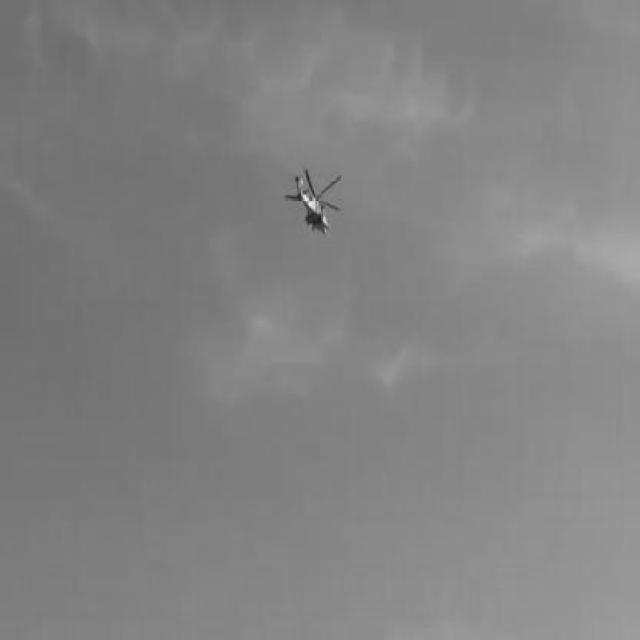helikopter: (282, 170, 342, 236)
